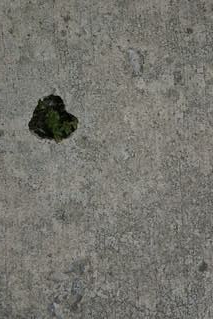Spalling: (27, 93, 79, 144)
